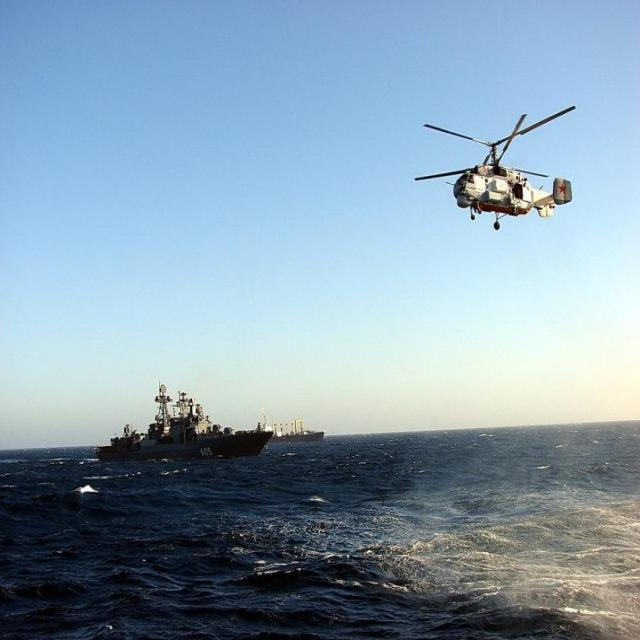MIL_HELO: (400, 99, 589, 235)
